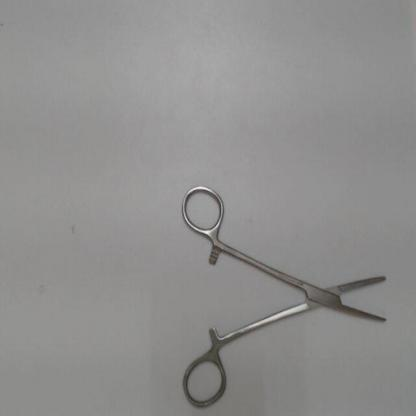Mayo Needle Holder: (177, 180, 399, 412)
